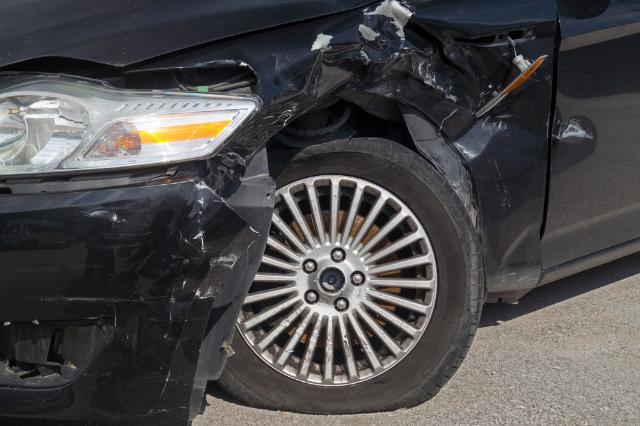crack: (124, 166, 192, 181)
dent: (228, 2, 478, 154)
scratch: (50, 181, 247, 312)
tire flat: (217, 129, 485, 416)
